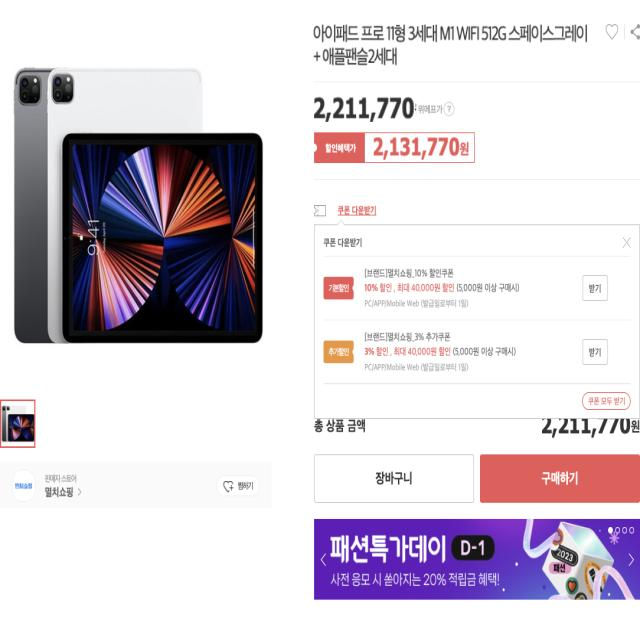product_discount_price: (374, 134, 472, 161)
product_name: (308, 20, 589, 67)
product_original_price: (315, 96, 417, 122)
